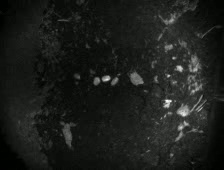corn: (100, 72, 112, 84), (91, 74, 101, 88), (109, 75, 120, 87), (71, 71, 82, 81)
